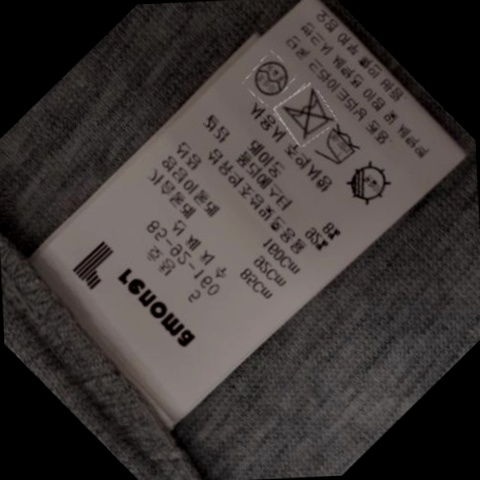DN_wash: (279, 92, 332, 136)
dry_clean_petrol_only: (249, 57, 290, 96)
iron_low: (315, 128, 362, 168)
line_dry_in_shade: (340, 164, 391, 205)
